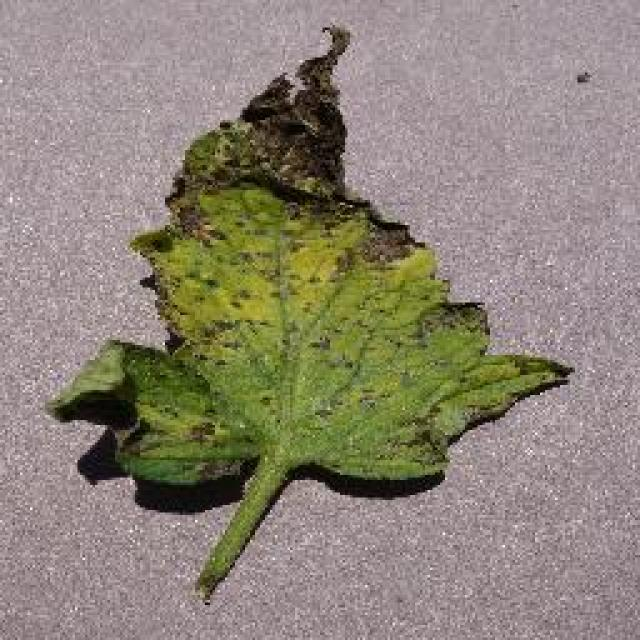Tomato___Septoria_leaf_spot: (50, 25, 568, 592)
